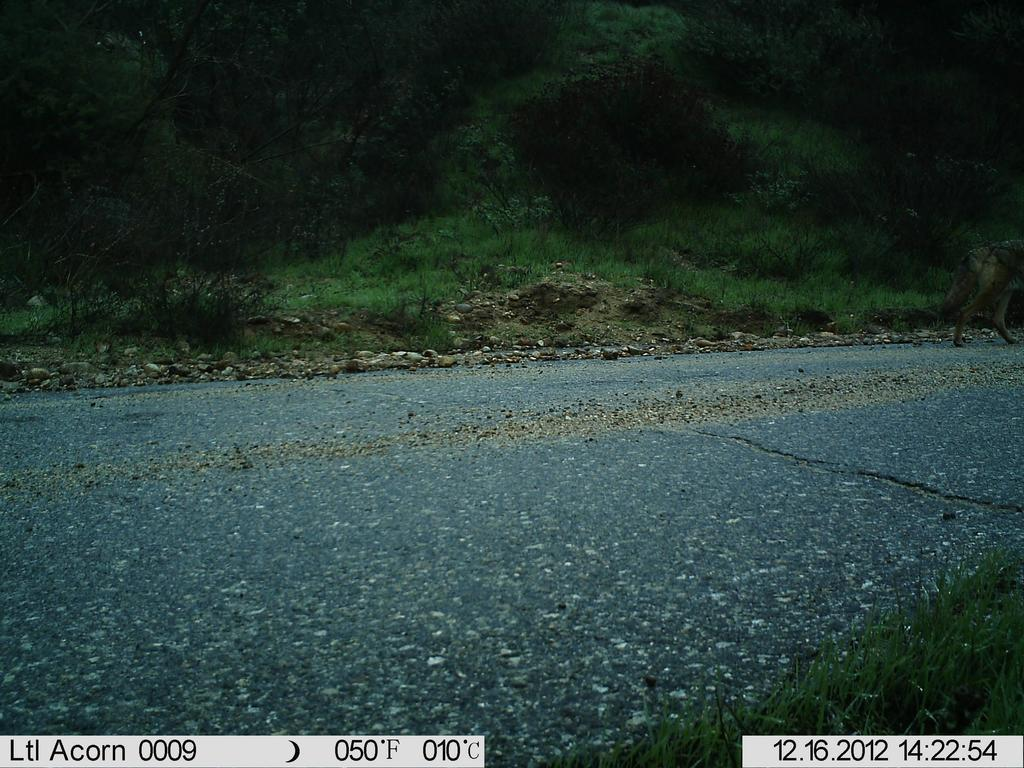coyote: (927, 230, 1022, 361)
